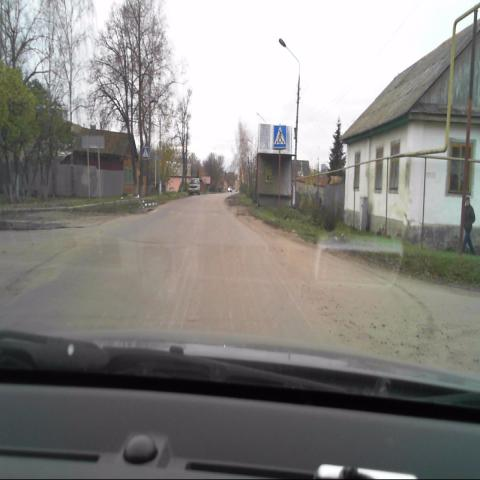5_19_1: (274, 124, 286, 148), (141, 146, 150, 160)
